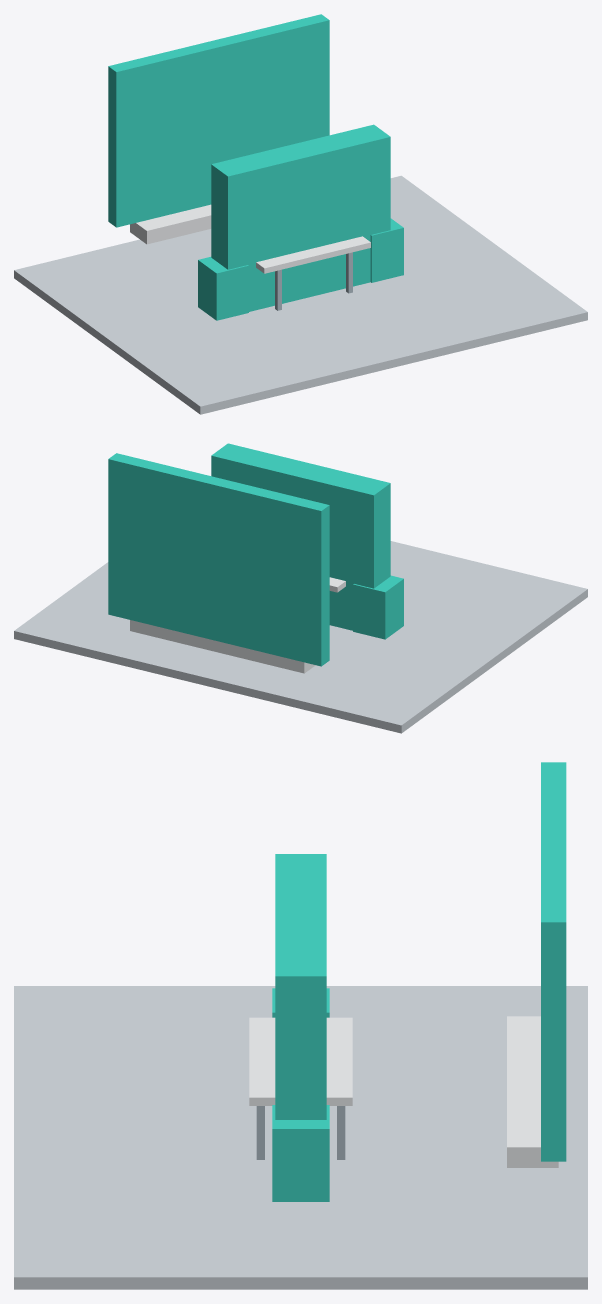
3 views of the same model, one above another, from view 1: azimuth 30°, elevation 25°; view 2: azimuth 150°, elevation 25°; view 3: azimuth 270°, elevation 25° (orthographic). The views are drawn at different scales.
Parts seen in each view (by area): view 1: Exhibition Booth Concept; view 2: Exhibition Booth Concept; view 3: Exhibition Booth Concept.
Boxes of the visible parts, bbox=[...] form: Exhibition Booth Concept: bbox=[14, 14, 587, 414]; Exhibition Booth Concept: bbox=[14, 443, 587, 733]; Exhibition Booth Concept: bbox=[14, 762, 587, 1289].
Bounding box in the file's own units: 6 × 2.9 × 5.
